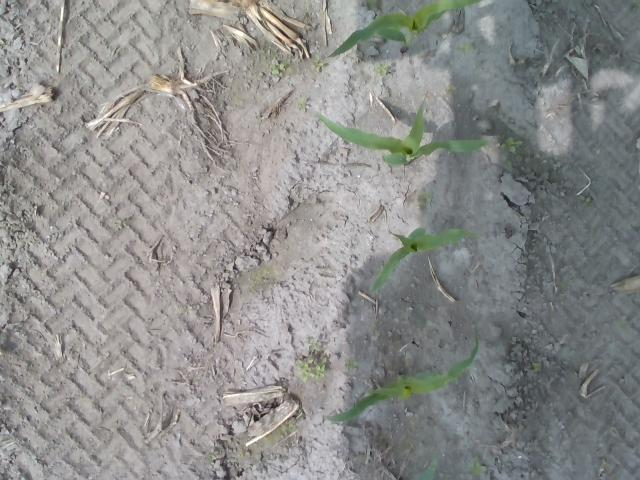Maize: (320, 326, 478, 422), (315, 99, 490, 170), (326, 0, 482, 60), (368, 224, 463, 294)
Weeds: (500, 136, 524, 169), (295, 356, 326, 381), (468, 458, 491, 476), (308, 56, 324, 72), (373, 61, 390, 76), (460, 41, 474, 57), (270, 62, 286, 74), (446, 84, 459, 96), (527, 361, 541, 372)
